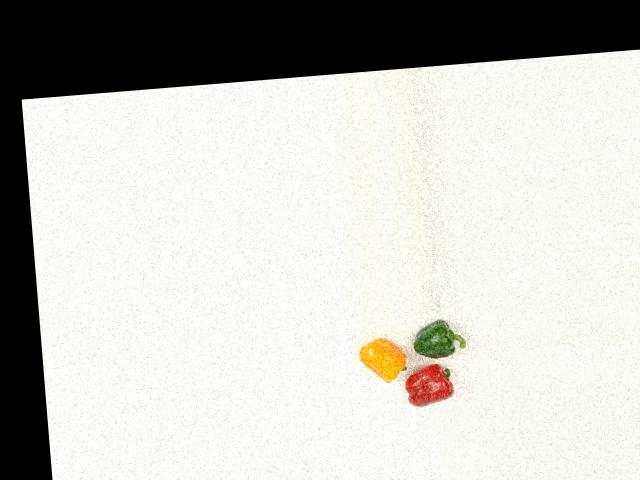bell_pepper: (411, 317, 468, 362)
